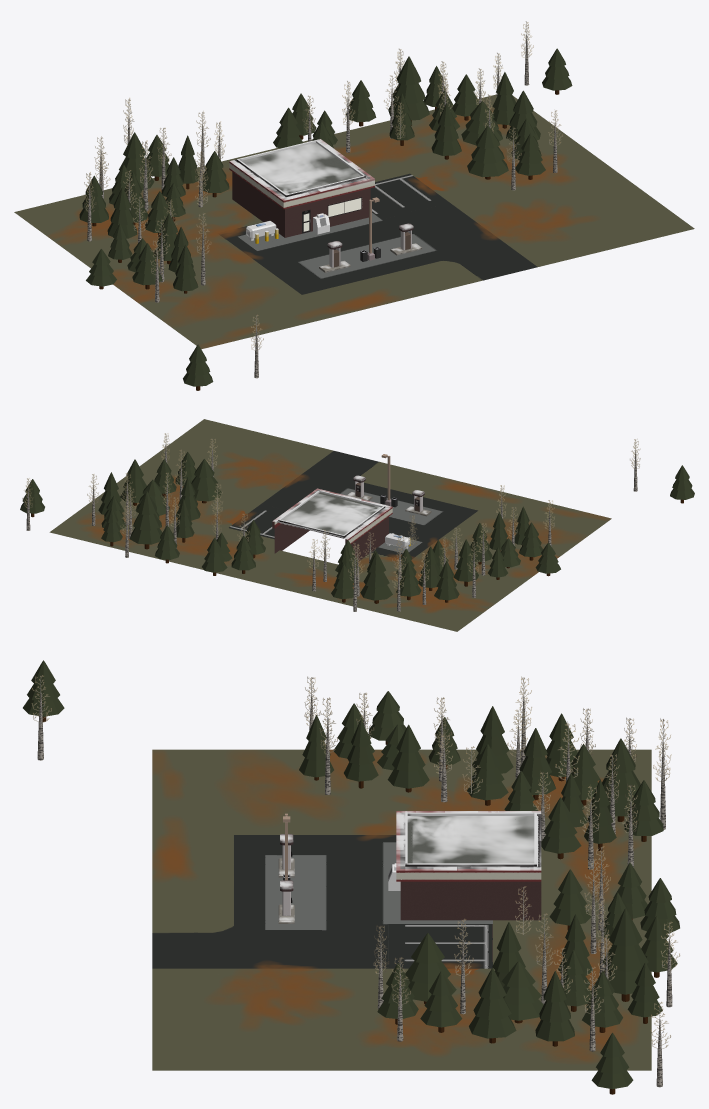
Rendered from outside.glb.
3 views of the same model, one above another, from view 1: azimuth 30°, elevation 25°; view 2: azimuth 150°, elevation 25°; view 3: azimuth 270°, elevation 25° (orthographic). The views are drawn at different scales.
Parts seen in each view (by area): view 1: mainPavement-col, tree.001, gasStation-col, birchTreeLeaves.001, birchTreeTrunk.001, gasPump-col; view 2: mainPavement-col, tree.001, gasStation-col, birchTreeLeaves.001, birchTreeTrunk.001, gasPump-col; view 3: mainPavement-col, tree.001, gasStation-col, birchTreeLeaves.001, birchTreeTrunk.001, gasPump-col.
Part boxes in pixels (x1,y1,x2,y2): mainPavement-col: (14, 94, 694, 349); tree.001: (79, 48, 572, 390); gasStation-col: (229, 139, 374, 237); birchTreeLeaves.001: (84, 21, 562, 350); birchTreeTrunk.001: (87, 34, 557, 378); gasPump-col: (319, 223, 422, 272); mainPavement-col: (49, 419, 611, 631); tree.001: (20, 452, 694, 603); gasStation-col: (272, 488, 392, 561); birchTreeLeaves.001: (22, 433, 640, 588); birchTreeTrunk.001: (26, 444, 637, 611); gasPump-col: (347, 475, 431, 516); mainPavement-col: (152, 749, 651, 1070); tree.001: (23, 660, 679, 1094); gasStation-col: (396, 811, 541, 920); birchTreeLeaves.001: (31, 675, 679, 1048); birchTreeTrunk.001: (37, 692, 672, 1087); gasPump-col: (278, 834, 294, 923).
Size of the model in its own units: 64.08 by 9.01 by 47.27.
13 materials, 13 textured.
